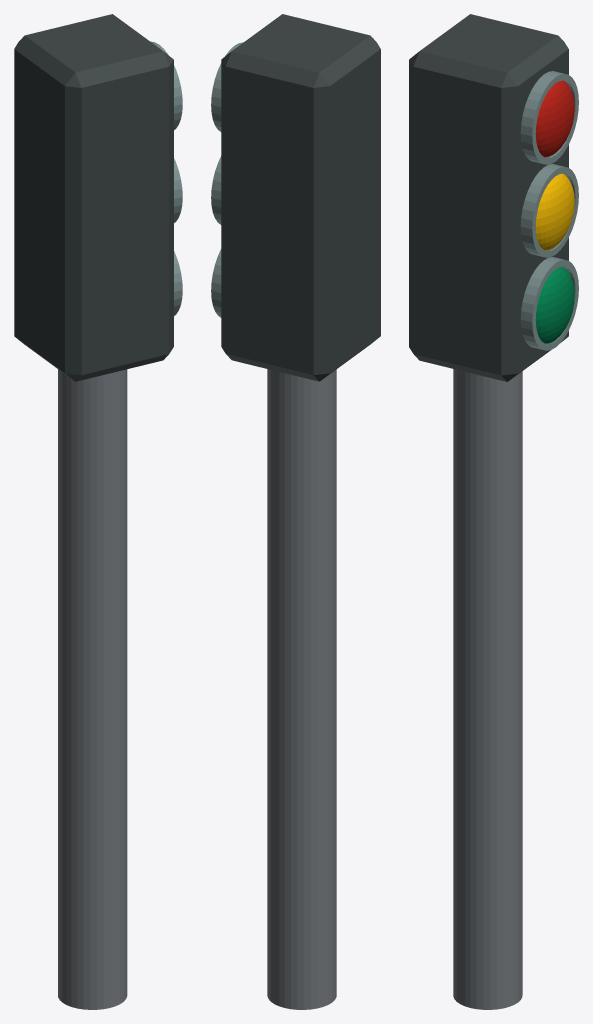
Rendered from trafficLight.glb.
3 views of the same model, side by side, from view 1: azimuth 30°, elevation 25°; view 2: azimuth 150°, elevation 25°; view 3: azimuth 330°, elevation 25° (orthographic).
Visible parts, largest first — view 1: TrafficLight; view 2: TrafficLight; view 3: TrafficLight, TrafficLightGreen, TrafficLightYellow, TrafficLightRed.
Part boxes in pixels (x1,y1,x2,y2): TrafficLight: [14, 14, 182, 1009]; TrafficLight: [211, 14, 380, 1009]; TrafficLight: [409, 14, 578, 1009]; TrafficLightGreen: [535, 266, 574, 343]; TrafficLightYellow: [535, 173, 574, 250]; TrafficLightRed: [535, 80, 574, 157].
Bounding box in the file's own units: 0.0418 × 0.293 × 0.0351.
